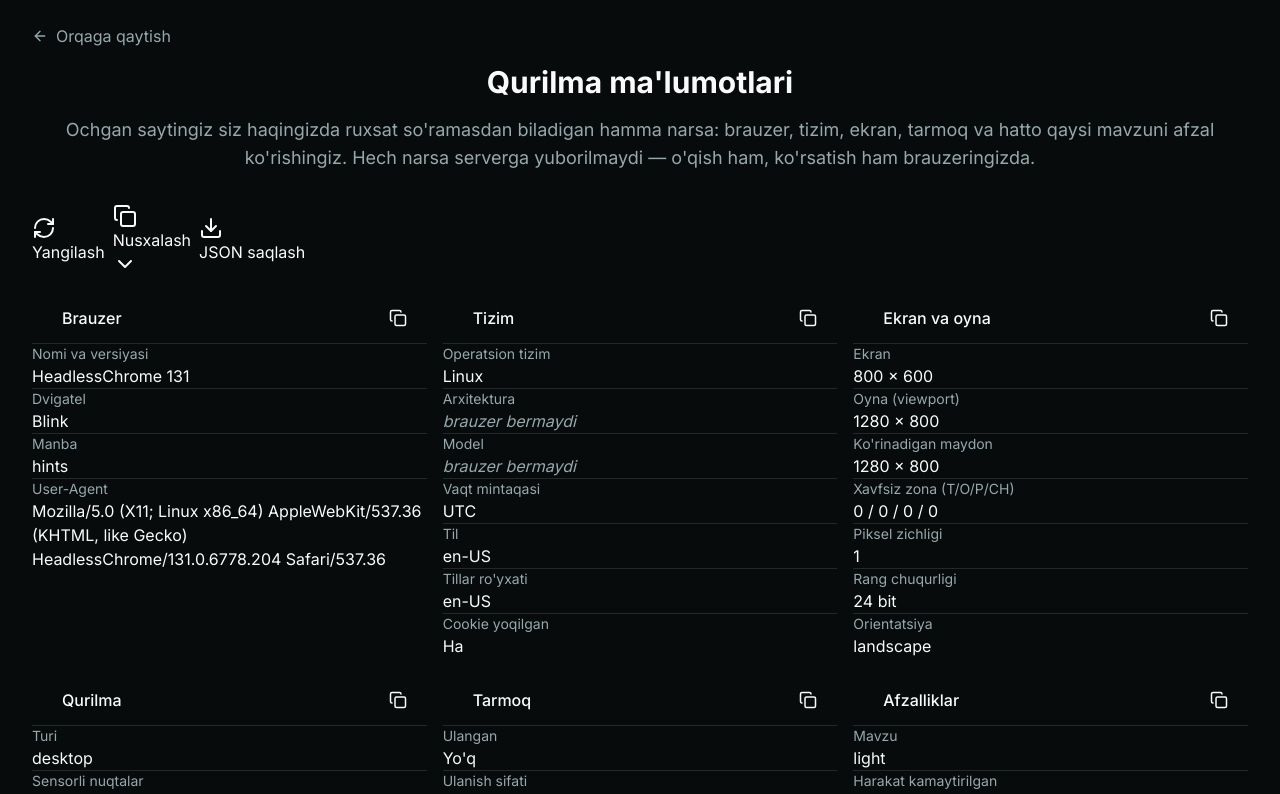
it: the copy control › offers the data as a Markdown table as well as JSON
The image size is (1280, 794).
Step 1. Press the mouse on the button "Nusxalash" → (152, 240), box [113, 204, 191, 276]
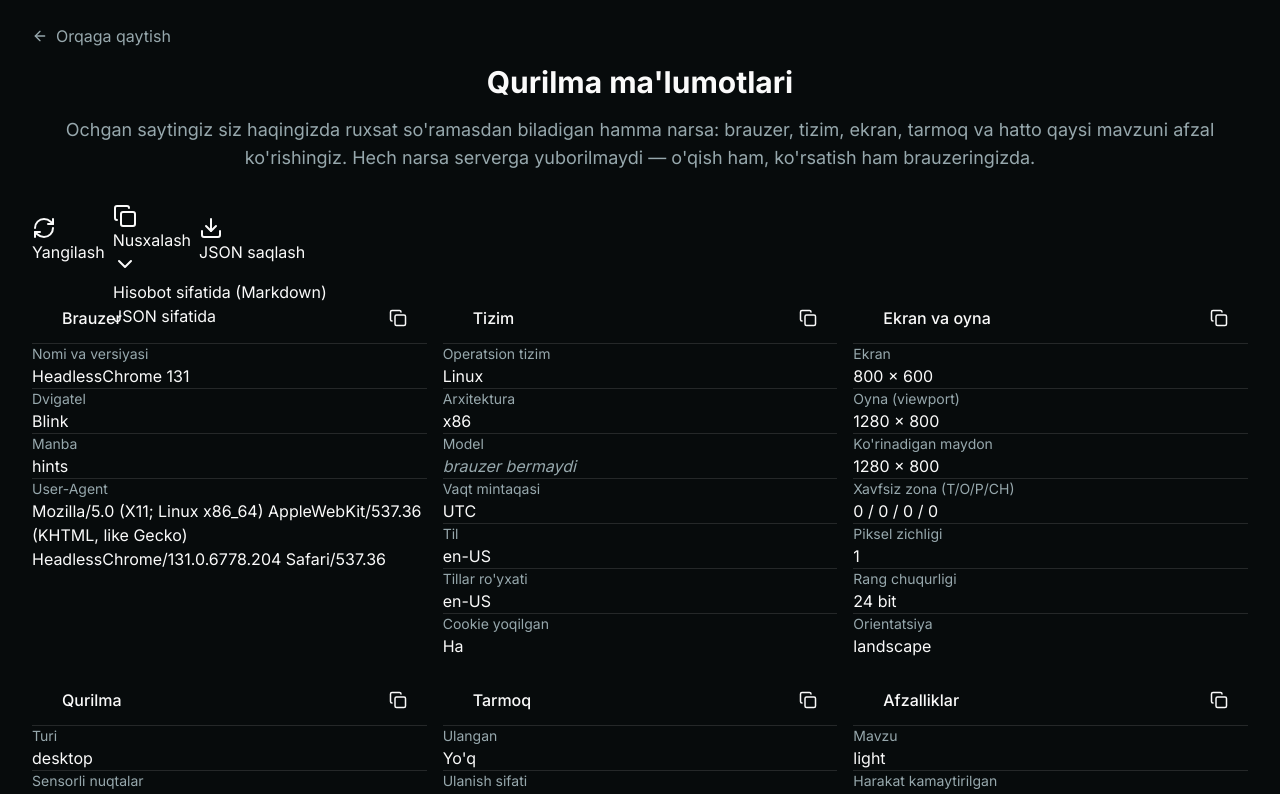
Expected: the menu item "Hisobot sifatida (Markdown)" is shown, [113, 280, 327, 304]
Expected: the menu item "JSON sifatida" is shown, [113, 306, 216, 326]
